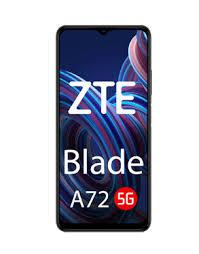Smartphone: (56, 21, 157, 238)
